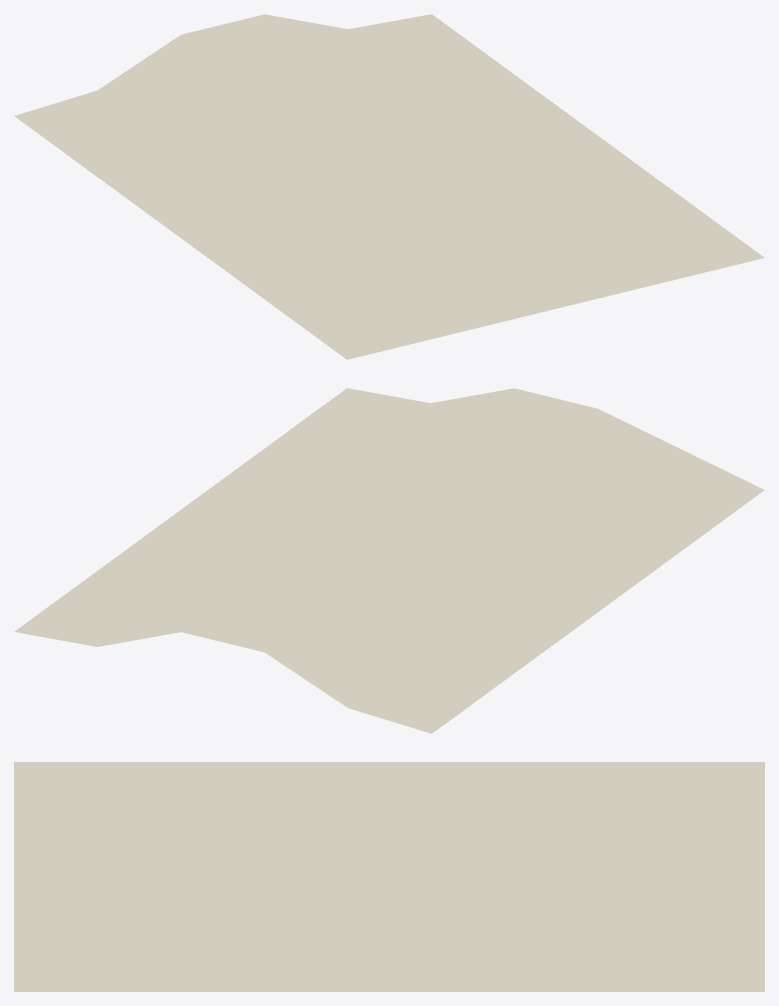
File: LL_Note_Paper.fbx
3 views of the same model, one above another, from view 1: azimuth 30°, elevation 25°; view 2: azimuth 150°, elevation 25°; view 3: azimuth 270°, elevation 25° (orthographic). The views are drawn at different scales.
Parts seen in each view (by area): view 1: LL_Note_Paper; view 2: LL_Note_Paper; view 3: LL_Note_Paper.
Boxes of the visible parts, x1,y1,x2,y2 form: LL_Note_Paper: (14, 14, 764, 359); LL_Note_Paper: (14, 388, 764, 733); LL_Note_Paper: (14, 762, 764, 991).
Bounding box in the file's own units: 0.42 × 0.039 × 0.58.
